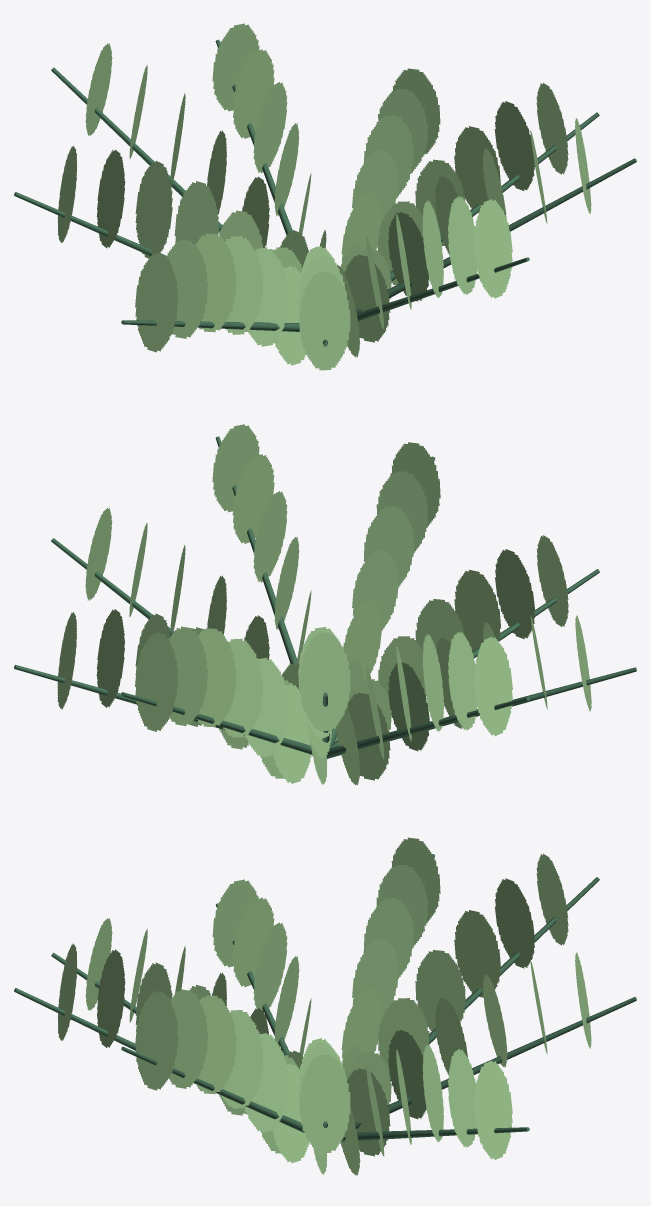
The model's file is fern01.glb.
The picture shows the model from 3 angles, top to bottom: view 1: azimuth 30°, elevation 25°; view 2: azimuth 150°, elevation 25°; view 3: azimuth 270°, elevation 25°; orthographic projection.
Parts seen in each view (by area): view 1: leaflets, fronds; view 2: leaflets, fronds; view 3: leaflets, fronds.
Boxes of the visible parts, <box> form: leaflets: <box>57,23,591,370</box>; fronds: <box>14,39,636,346</box>; leaflets: <box>57,424,591,785</box>; fronds: <box>14,436,636,758</box>; leaflets: <box>58,837,591,1175</box>; fronds: <box>14,854,636,1141</box>.
Bounding box in the file's own units: 1.11 × 0.517 × 1.13.
Materials: 2 (2 with a texture image).
